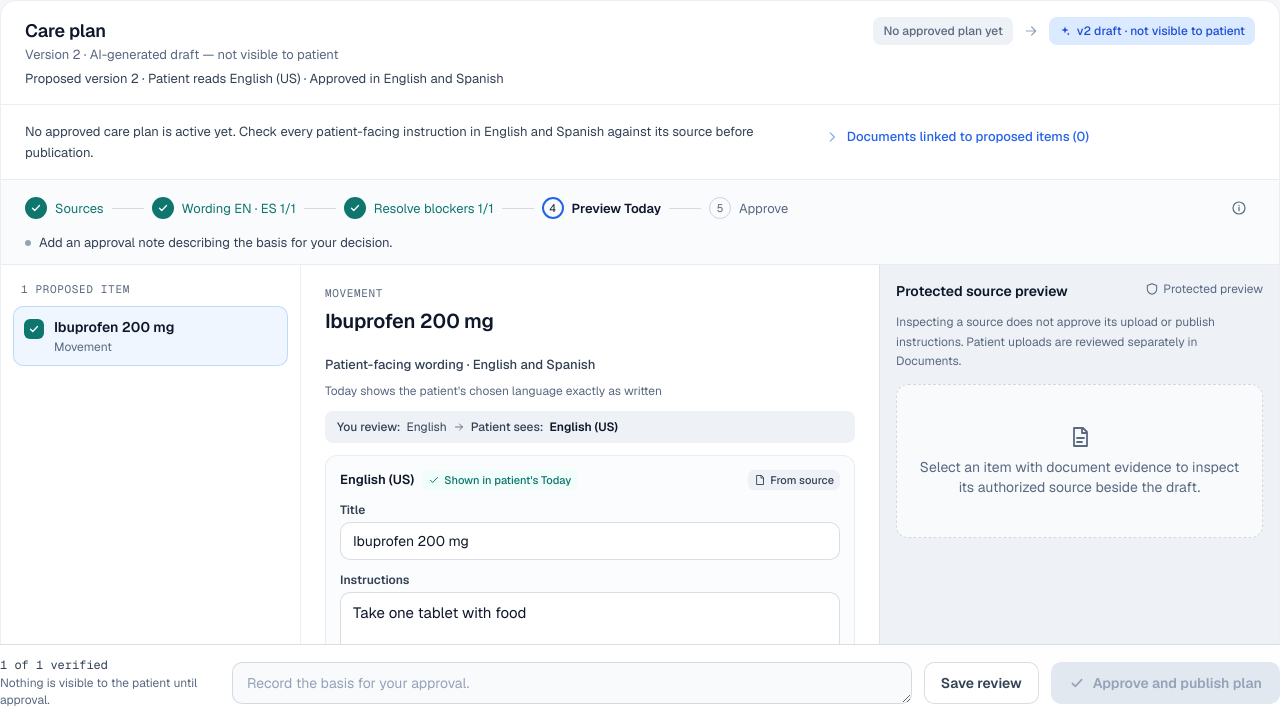
it: cross-plan conflicts in the care-plan draft review › blocks approval with a red conflict card, a summary and a publish-without alternative
Type "Reviewed against sources" into the text box with placeholder "Record the basis for your approval." at (572, 682), box x1=232 y1=662 x2=912 y2=704
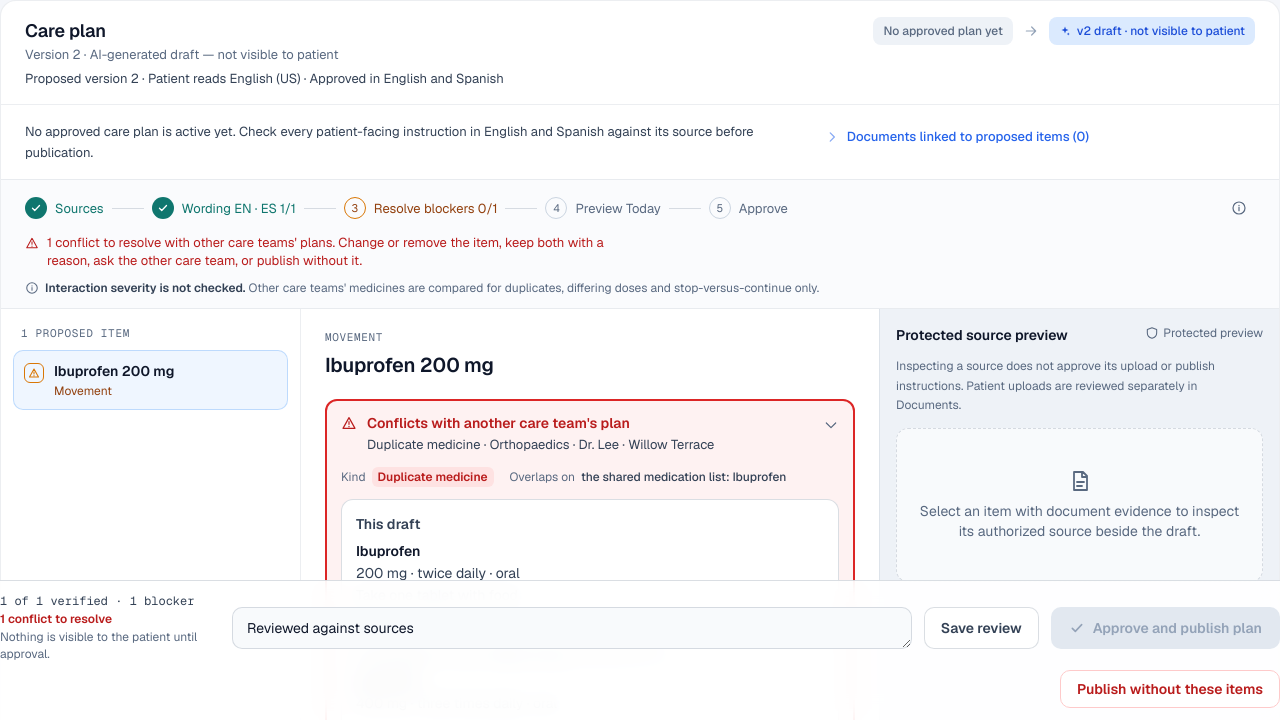
Check: the element named "Conflict with another care team's plan" shows "Conflicts with another care team's plan", box x1=327 y1=401 x2=853 y2=466
Check: the element named "Conflict with another care team's plan" shows "Duplicate medicine", box x1=327 y1=401 x2=853 y2=466
Check: the text with test id "conflict-summary" reads "1 conflict to resolve", box x1=0 y1=611 x2=112 y2=627
